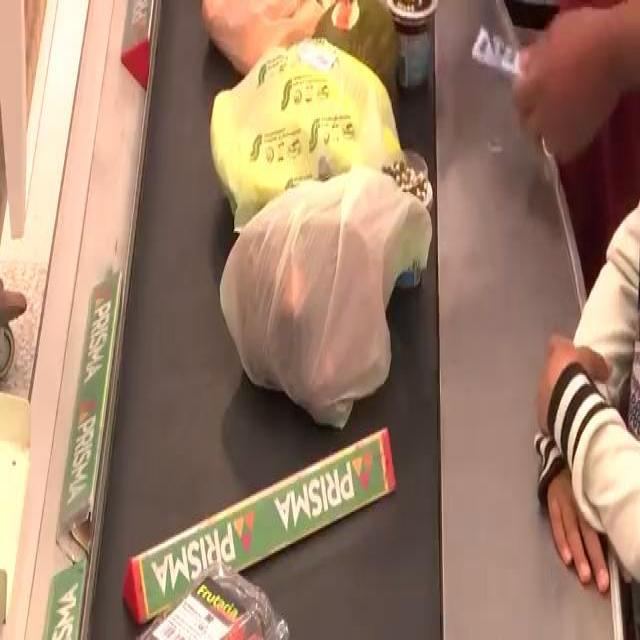food-box: (212, 55, 418, 224), (378, 152, 441, 298), (388, 0, 438, 91)
fruit: (244, 173, 424, 439), (124, 556, 294, 636), (310, 6, 406, 88)
